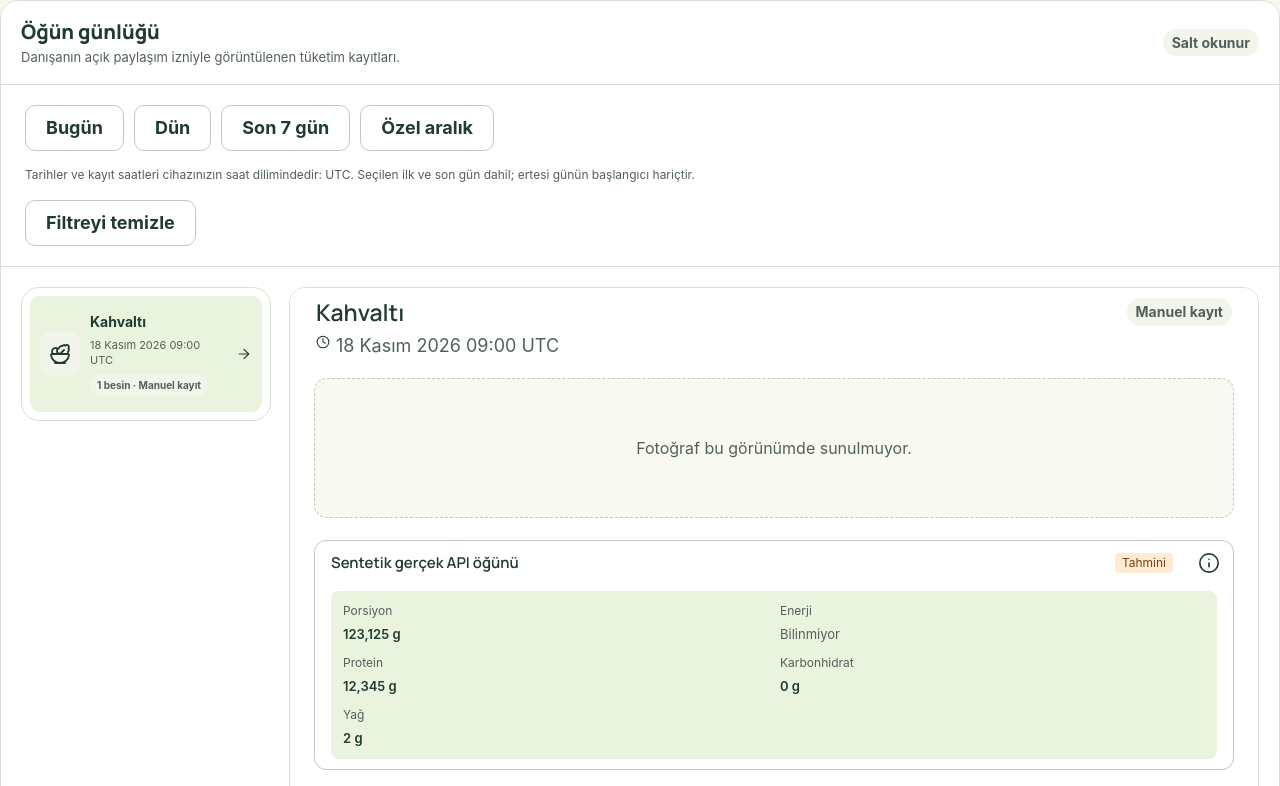
Scenario: real meal panel › rejects an empty custom calendar range without sending a request
The width and height of the screenshot is (1280, 786).
Check: the heading "Sentetik gerçek API öğünü" is shown, box [331,552,519,573]
Click the button "Özel aralık": (427, 128) [360,105,494,151]
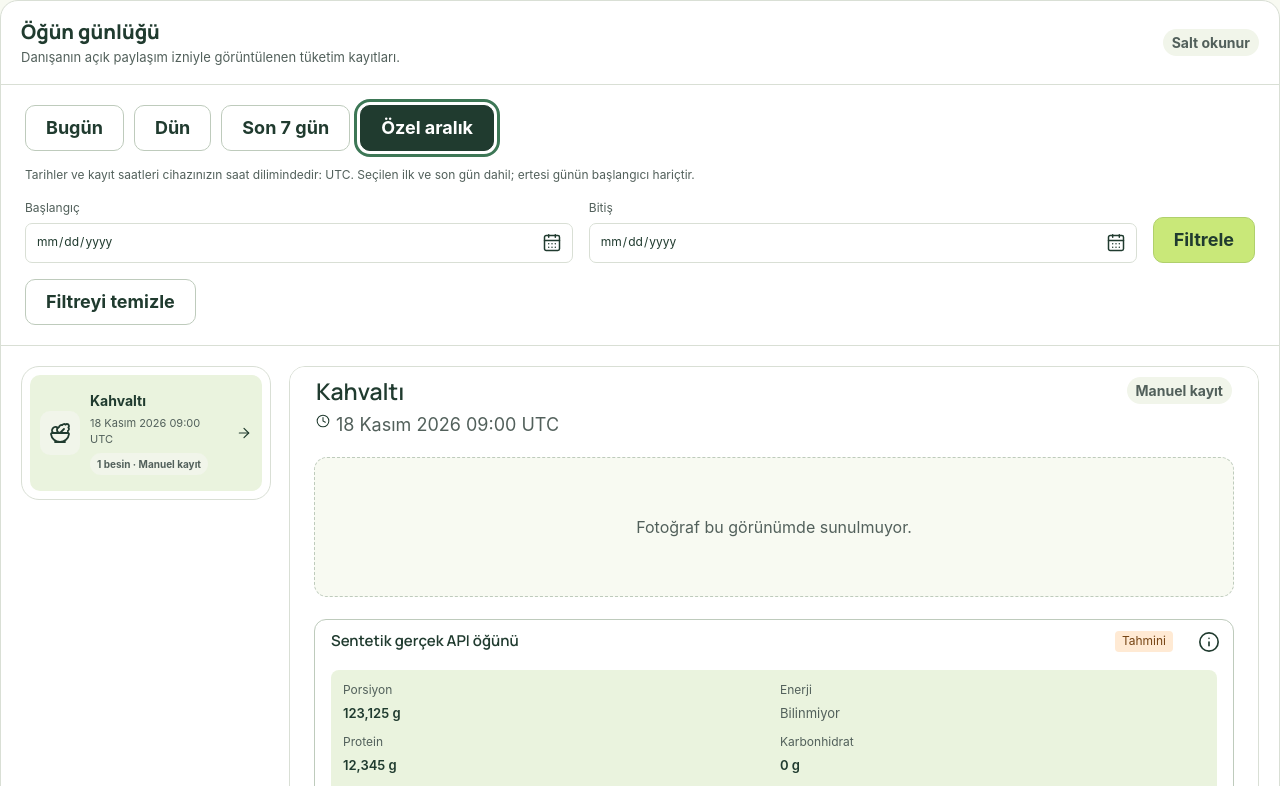
Click the button "Filtrele": (1204, 240) [1153,217,1255,263]
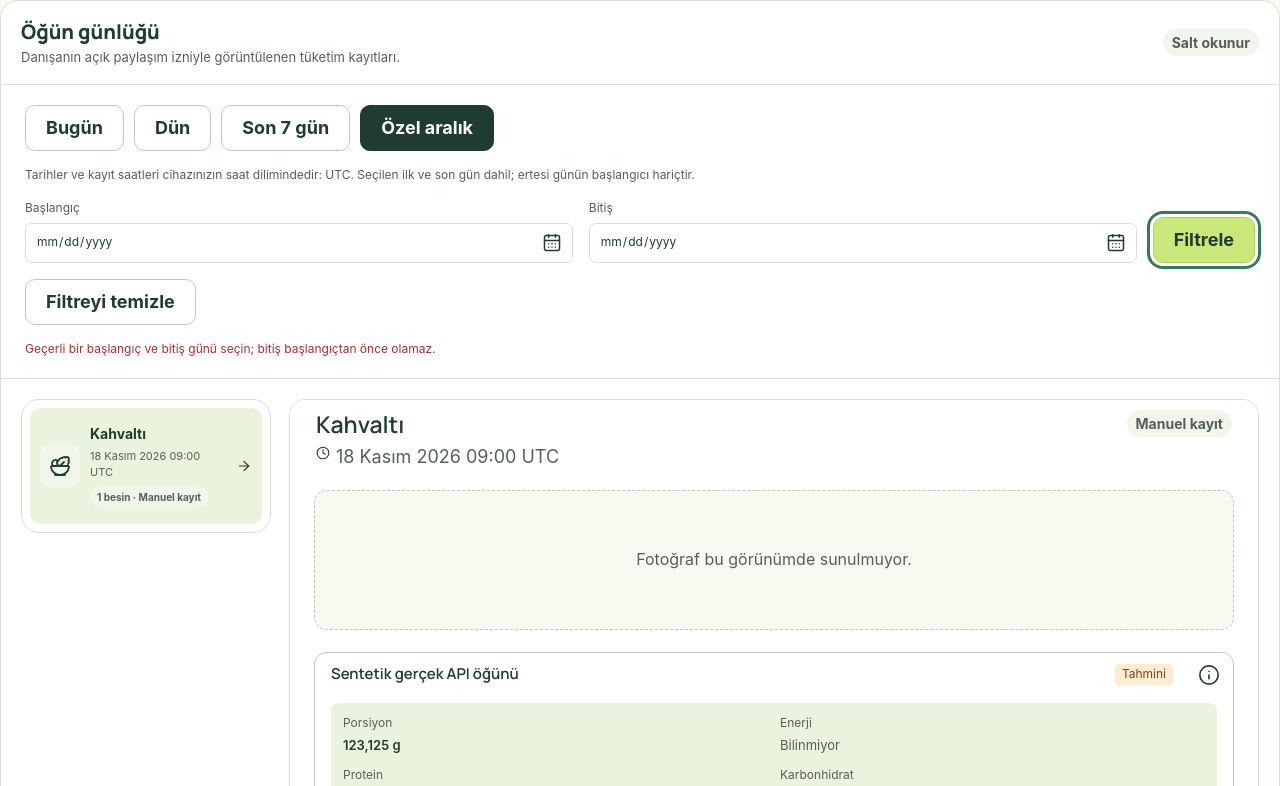
Check: the message shows "Geçerli bir başlangıç ve bitiş günü seçin", box [25,341,436,356]
